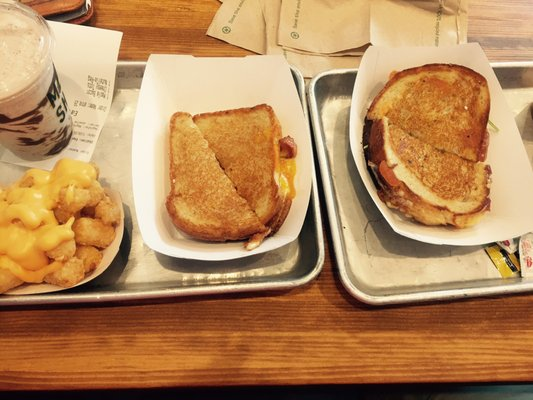soup: (363, 63, 494, 229), (165, 103, 299, 248), (165, 114, 267, 244)
sushi: (0, 158, 126, 296)
